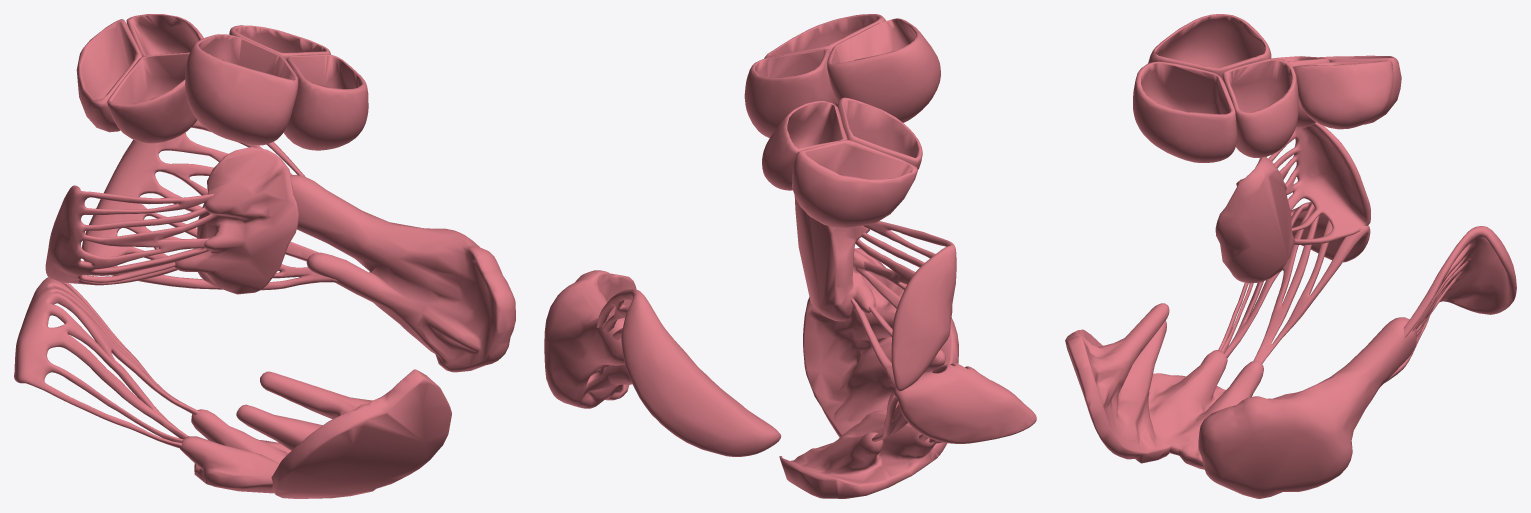
File: z-anatomy-cardiac-internal-structures.glb
The picture shows the model from 3 angles, left to right: view 1: azimuth 30°, elevation 25°; view 2: azimuth 150°, elevation 25°; view 3: azimuth 270°, elevation 25°; orthographic projection. The views are drawn at different scales.
Parts seen in each view (by area): view 1: cardiac-internal-structures-inferior-papillary-muscle-of-lef, cardiac-internal-structures-anterior-papillary-muscle-of-rig, cardiac-internal-structures-septal-papillary-muscle-of-right, cardiac-internal-structures-inferior-leaflet-of-right-atriov, cardiac-internal-structures-right-semilunar-leaflet-of-pulmo, cardiac-internal-structures-septal-leaflet-of-right-atrioven, cardiac-internal-structures-posterior-leaflet-of-left-atriov, cardiac-internal-structures-anterior-semilunar-leaflet-of-pu, cardiac-internal-structures-right-coronary-leaflet__Right co, cardiac-internal-structures-inferior-papillary-muscle-of-rig, cardiac-internal-structures-non-coronary-leaflet__Non-corona, cardiac-internal-structures-left-coronary-leaflet__Left coro (+1 smaller); view 2: cardiac-internal-structures-posterior-leaflet-of-left-atriov, cardiac-internal-structures-septal-leaflet-of-right-atrioven, cardiac-internal-structures-anterior-papillary-muscle-of-rig, cardiac-internal-structures-inferior-papillary-muscle-of-lef, cardiac-internal-structures-inferior-leaflet-of-right-atriov, cardiac-internal-structures-non-coronary-leaflet__Non-corona, cardiac-internal-structures-right-semilunar-leaflet-of-pulmo, cardiac-internal-structures-inferior-papillary-muscle-of-rig, cardiac-internal-structures-septal-papillary-muscle-of-right, cardiac-internal-structures-left-semilunar-leaflet-of-pulmon, cardiac-internal-structures-left-coronary-leaflet__Left coro, cardiac-internal-structures-right-coronary-leaflet__Right co (+1 smaller); view 3: cardiac-internal-structures-inferior-papillary-muscle-of-lef, cardiac-internal-structures-anterior-papillary-muscle-of-rig, cardiac-internal-structures-anterior-semilunar-leaflet-of-pu, cardiac-internal-structures-septal-papillary-muscle-of-right, cardiac-internal-structures-septal-leaflet-of-right-atrioven, cardiac-internal-structures-inferior-leaflet-of-right-atriov, cardiac-internal-structures-inferior-papillary-muscle-of-rig, cardiac-internal-structures-posterior-leaflet-of-left-atriov, cardiac-internal-structures-left-semilunar-leaflet-of-pulmon, cardiac-internal-structures-left-coronary-leaflet__Left coro, cardiac-internal-structures-right-semilunar-leaflet-of-pulmo, cardiac-internal-structures-non-coronary-leaflet__Non-corona (+1 smaller).
Boxes of the visible parts, <box> form: cardiac-internal-structures-inferior-papillary-muscle-of-lef: <box>290,175,515,372</box>; cardiac-internal-structures-anterior-papillary-muscle-of-rig: <box>236,369,451,498</box>; cardiac-internal-structures-septal-papillary-muscle-of-right: <box>174,147,299,294</box>; cardiac-internal-structures-inferior-leaflet-of-right-atriov: <box>14,277,199,448</box>; cardiac-internal-structures-right-semilunar-leaflet-of-pulmo: <box>185,34,298,145</box>; cardiac-internal-structures-septal-leaflet-of-right-atrioven: <box>45,185,218,285</box>; cardiac-internal-structures-posterior-leaflet-of-left-atriov: <box>82,120,338,290</box>; cardiac-internal-structures-anterior-semilunar-leaflet-of-pu: <box>283,54,368,150</box>; cardiac-internal-structures-right-coronary-leaflet__Right co: <box>107,52,196,143</box>; cardiac-internal-structures-inferior-papillary-muscle-of-rig: <box>180,409,290,493</box>; cardiac-internal-structures-non-coronary-leaflet__Non-corona: <box>76,19,142,132</box>; cardiac-internal-structures-left-coronary-leaflet__Left coro: <box>126,14,203,56</box>; cardiac-internal-structures-posterior-leaflet-of-left-atriov: <box>596,289,781,456</box>; cardiac-internal-structures-septal-leaflet-of-right-atrioven: <box>851,221,956,391</box>; cardiac-internal-structures-anterior-papillary-muscle-of-rig: <box>803,248,958,437</box>; cardiac-internal-structures-inferior-papillary-muscle-of-lef: <box>544,270,636,408</box>; cardiac-internal-structures-inferior-leaflet-of-right-atriov: <box>872,363,1036,443</box>; cardiac-internal-structures-non-coronary-leaflet__Non-corona: <box>792,139,917,228</box>; cardiac-internal-structures-right-semilunar-leaflet-of-pulmo: <box>827,18,940,122</box>; cardiac-internal-structures-inferior-papillary-muscle-of-rig: <box>779,410,946,498</box>; cardiac-internal-structures-septal-papillary-muscle-of-right: <box>794,195,875,321</box>; cardiac-internal-structures-left-semilunar-leaflet-of-pulmon: <box>744,49,836,138</box>; cardiac-internal-structures-left-coronary-leaflet__Left coro: <box>762,101,847,190</box>; cardiac-internal-structures-right-coronary-leaflet__Right co: <box>837,97,922,169</box>; cardiac-internal-structures-inferior-papillary-muscle-of-lef: <box>1198,317,1416,498</box>; cardiac-internal-structures-anterior-papillary-muscle-of-rig: <box>1065,303,1170,463</box>; cardiac-internal-structures-anterior-semilunar-leaflet-of-pu: <box>1133,61,1236,162</box>; cardiac-internal-structures-septal-papillary-muscle-of-right: <box>1215,157,1295,283</box>; cardiac-internal-structures-septal-leaflet-of-right-atrioven: <box>1258,122,1370,244</box>; cardiac-internal-structures-inferior-leaflet-of-right-atriov: <box>1218,202,1370,363</box>; cardiac-internal-structures-inferior-papillary-muscle-of-rig: <box>1148,350,1263,469</box>; cardiac-internal-structures-posterior-leaflet-of-left-atriov: <box>1385,226,1516,382</box>; cardiac-internal-structures-left-semilunar-leaflet-of-pulmon: <box>1222,58,1298,157</box>; cardiac-internal-structures-left-coronary-leaflet__Left coro: <box>1293,60,1393,129</box>; cardiac-internal-structures-right-semilunar-leaflet-of-pulmo: <box>1148,14,1271,79</box>; cardiac-internal-structures-non-coronary-leaflet__Non-corona: <box>1320,55,1401,124</box>.
Size of the model in its own units: 0.097 by 0.0896 by 0.0902.
